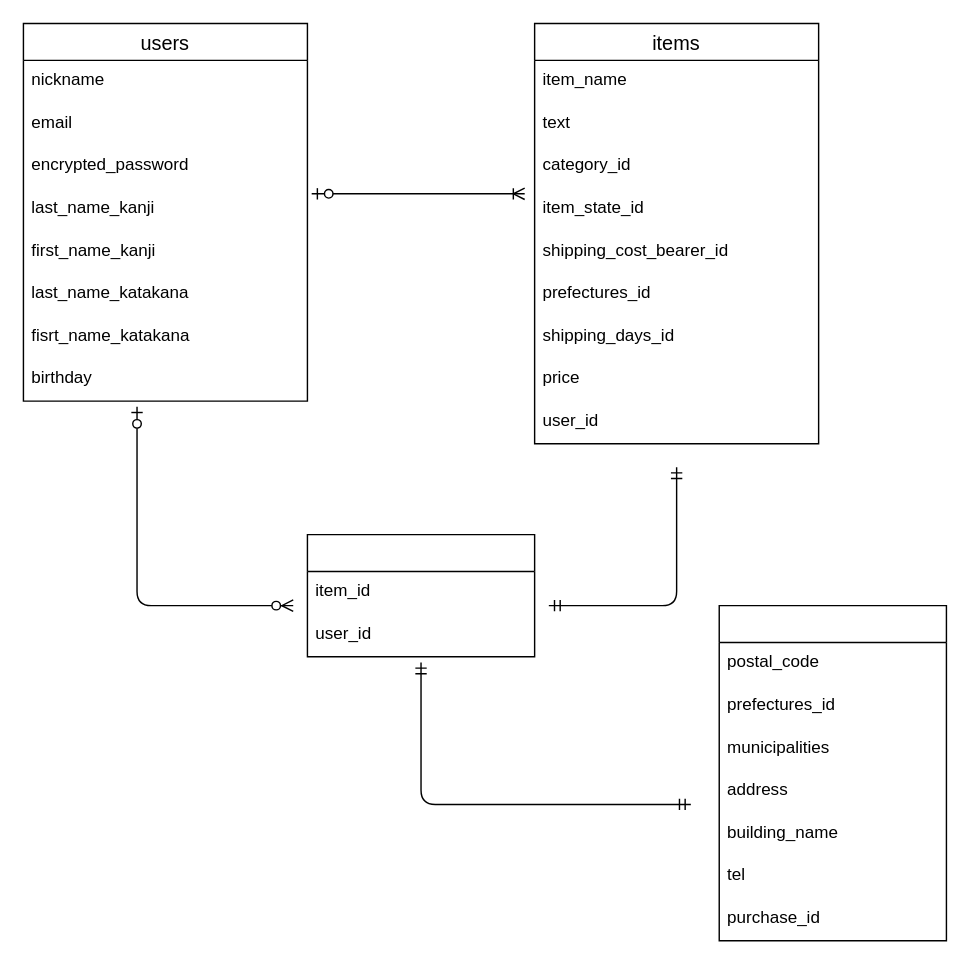
This 970x964 diagram has some shape labels left out. Here are the shapes that lost their labels. From the top down, the box of each, then its label:
(306, 533, 535, 657): purchases
(718, 604, 946, 941): shipping_addresses
